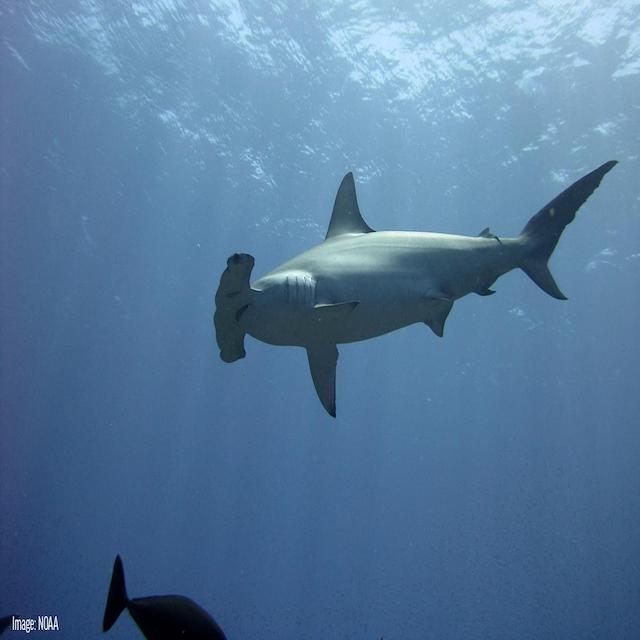hammerhead: (194, 231, 417, 388)
